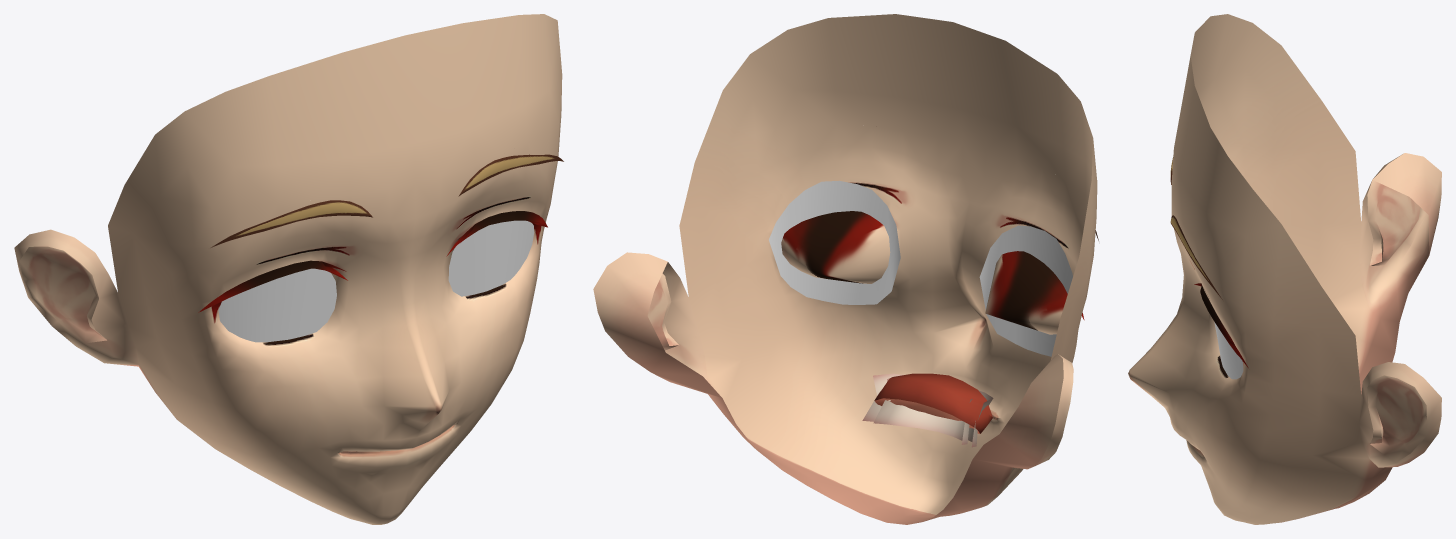
File: Tomoya.fbx
3 views of the same model, side by side, from view 1: azimuth 30°, elevation 25°; view 2: azimuth 150°, elevation 25°; view 3: azimuth 270°, elevation 25° (orthographic). The views are drawn at different scales.
Visible parts, largest first — view 1: M_Eye_B_Def, M_Head, M_Mth_B_Def, M_PupALL_R_A_Def, M_PupALL_L_A_Def, M_Brw_B_Def; view 2: M_Head, M_Eye_B_Def, M_Mth_B_Def, M_PupALL_L_A_Def, M_PupALL_R_A_Def; view 3: M_Head, M_Eye_B_Def, M_Mth_B_Def, M_PupALL_L_A_Def, M_Brw_B_Def.
Part boxes in pixels (x1,y1,x2,y2): M_Eye_B_Def: (133, 115, 561, 411); M_Head: (14, 14, 562, 384); M_Mth_B_Def: (138, 341, 523, 524); M_PupALL_R_A_Def: (218, 268, 336, 342); M_PupALL_L_A_Def: (448, 220, 534, 296); M_Brw_B_Def: (210, 154, 563, 248); M_Head: (593, 14, 1097, 469); M_Eye_B_Def: (703, 123, 1096, 374); M_Mth_B_Def: (708, 320, 1037, 524); M_PupALL_L_A_Def: (769, 180, 900, 304); M_PupALL_R_A_Def: (979, 225, 1072, 356); M_Head: (1171, 14, 1441, 467); M_Eye_B_Def: (1128, 102, 1319, 455); M_Mth_B_Def: (1128, 308, 1399, 524); M_PupALL_L_A_Def: (1214, 322, 1243, 379); M_Brw_B_Def: (1170, 157, 1223, 301).
Bounding box in the file's own units: 0.1971 × 0.1872 × 0.1143.
5 materials, 3 textured.
